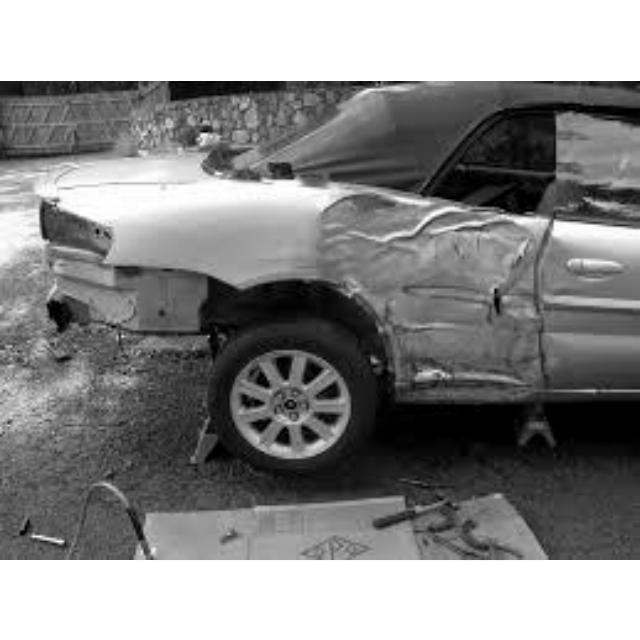doorouter-dent: (359, 191, 541, 413)
